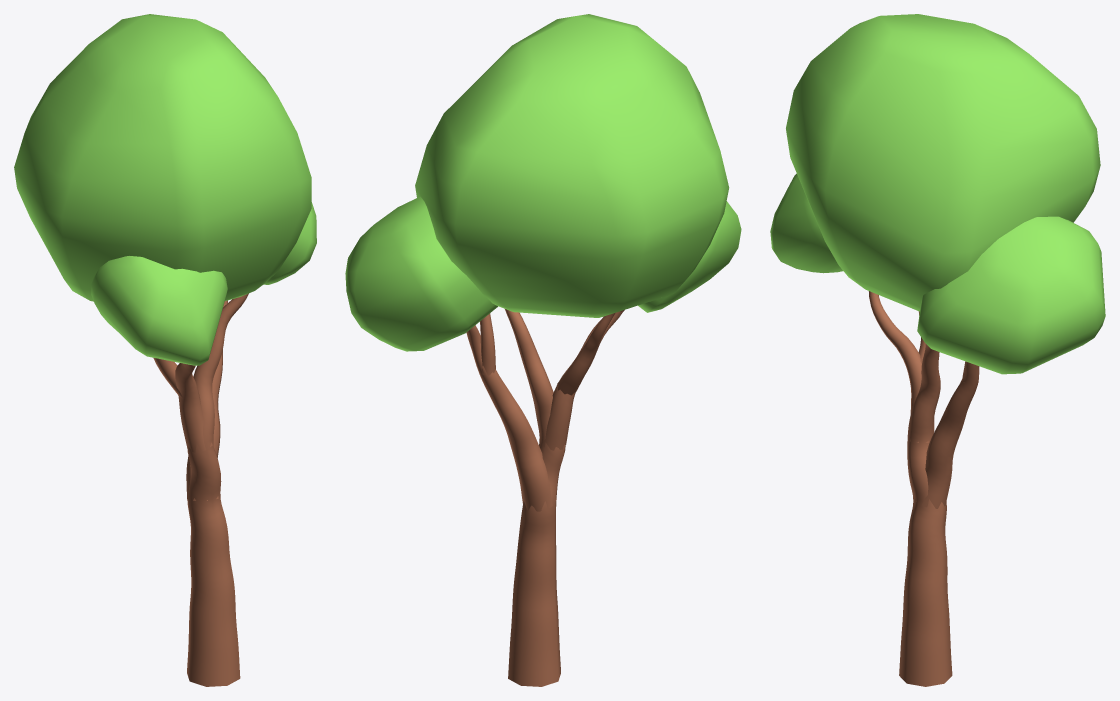
File: TREE.fbx
3 renders of one model, left to right at view 1: azimuth 30°, elevation 25°; view 2: azimuth 150°, elevation 25°; view 3: azimuth 270°, elevation 25°, orthographic. The views are drawn at different scales.
Visible parts, largest first — view 1: Circle, tree.001, Circle.001, Circle.002; view 2: Circle, tree.001, Circle.002, Circle.001; view 3: Circle, Circle.002, tree.001, Circle.001.
Boxes of the visible parts, left/top/right/bottom form: Circle: left=14, top=14, right=311, bottom=301; tree.001: left=153, top=293, right=248, bottom=686; Circle.001: left=91, top=256, right=227, bottom=365; Circle.002: left=264, top=202, right=316, bottom=284; Circle: left=415, top=14, right=729, bottom=317; tree.001: left=466, top=309, right=624, bottom=686; Circle.002: left=345, top=196, right=497, bottom=351; Circle.001: left=638, top=201, right=741, bottom=312; Circle: left=786, top=14, right=1100, bottom=311; Circle.002: left=917, top=216, right=1105, bottom=374; tree.001: left=868, top=291, right=979, bottom=686; Circle.001: left=770, top=173, right=842, bottom=273.
Size of the model in its own units: 511 by 1016 by 488.
